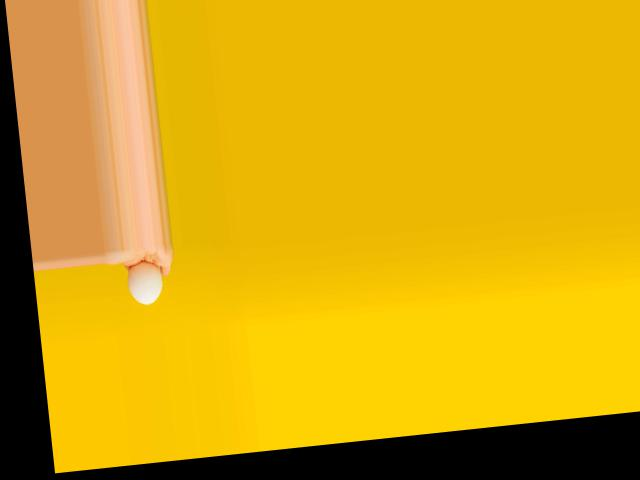egg: (127, 259, 164, 306)
